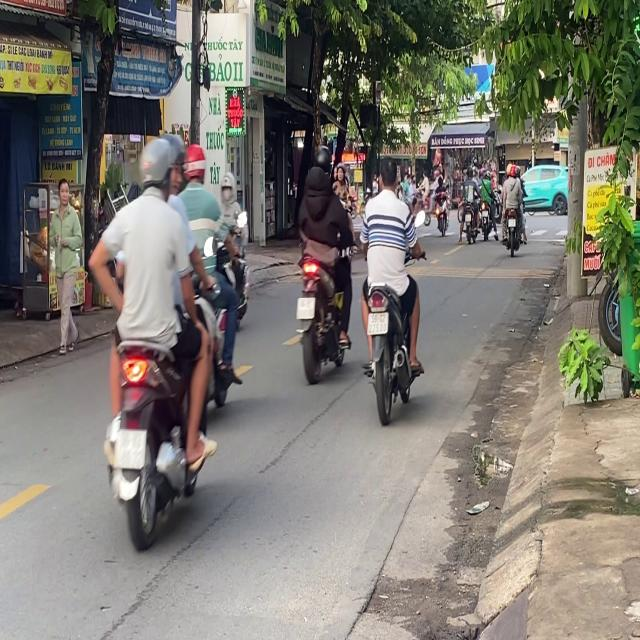helmet: (137, 134, 173, 200), (160, 132, 186, 192), (183, 143, 207, 185), (314, 146, 332, 176), (220, 171, 236, 204)
licenseplate: (93, 131, 220, 547), (357, 153, 425, 418), (293, 143, 355, 381)
motorcyclist: (378, 156, 399, 192)
nohelmet: (115, 429, 146, 468), (368, 311, 388, 334), (296, 297, 315, 318)
